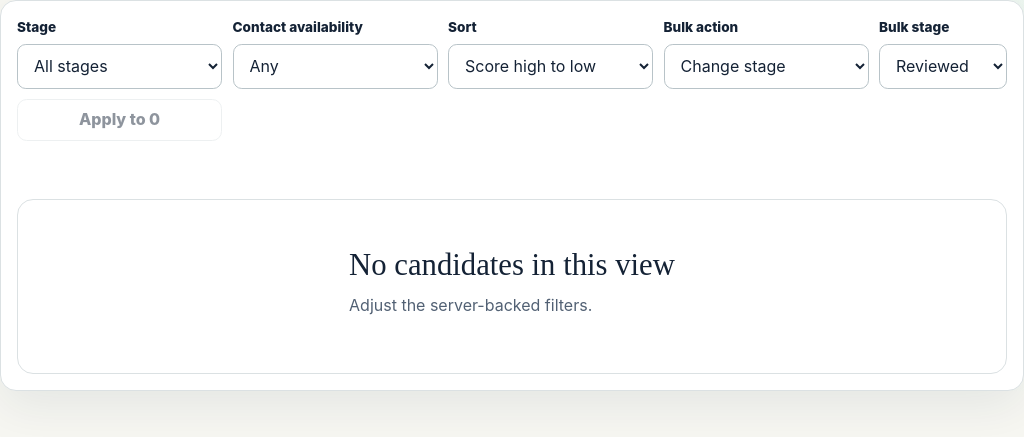
Scenario: CandidateTable › uses server-backed safe filters and only offers export for Shortlisted
Check: the button "Export shortlisted CSV" is not shown
Select "Available (masked)" in the dropdown labelled "Contact availability" at (335, 66), box [232, 44, 438, 89]
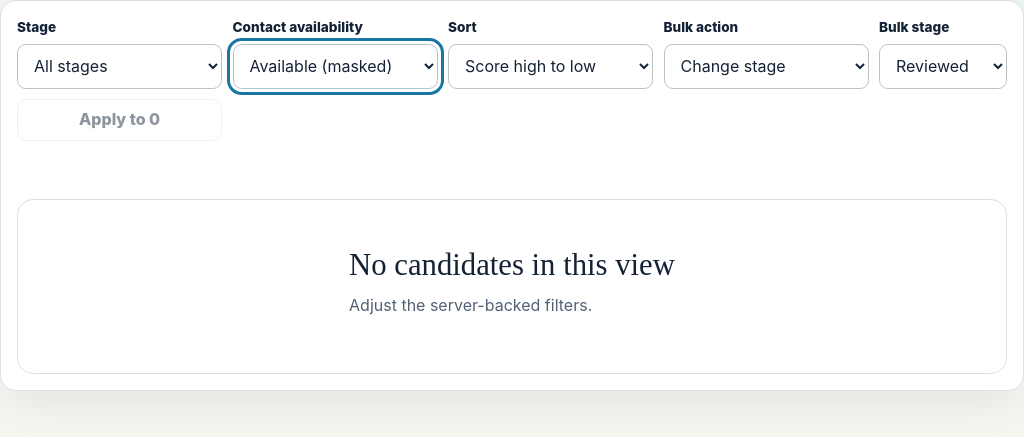
Select "Shortlisted" in the dropdown labelled "Stage" at (120, 66), box [17, 44, 222, 89]
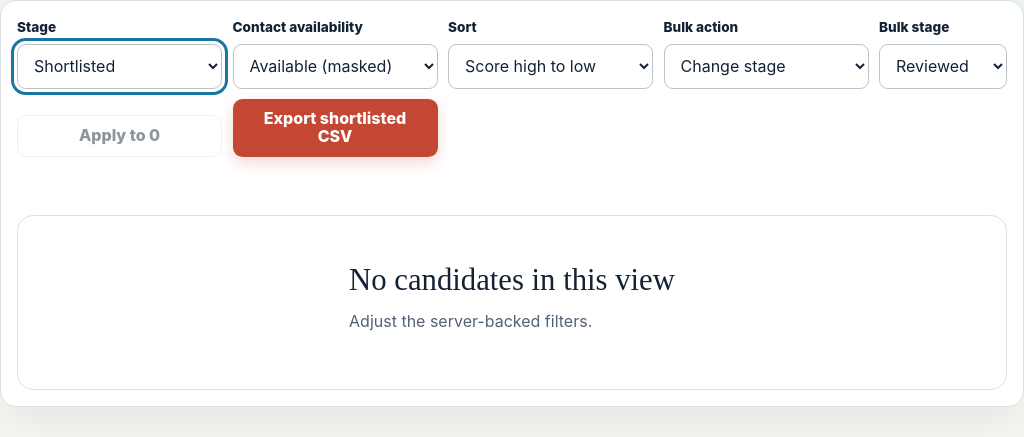
Check: the button "Export shortlisted CSV" is shown, box [232, 99, 438, 157]
